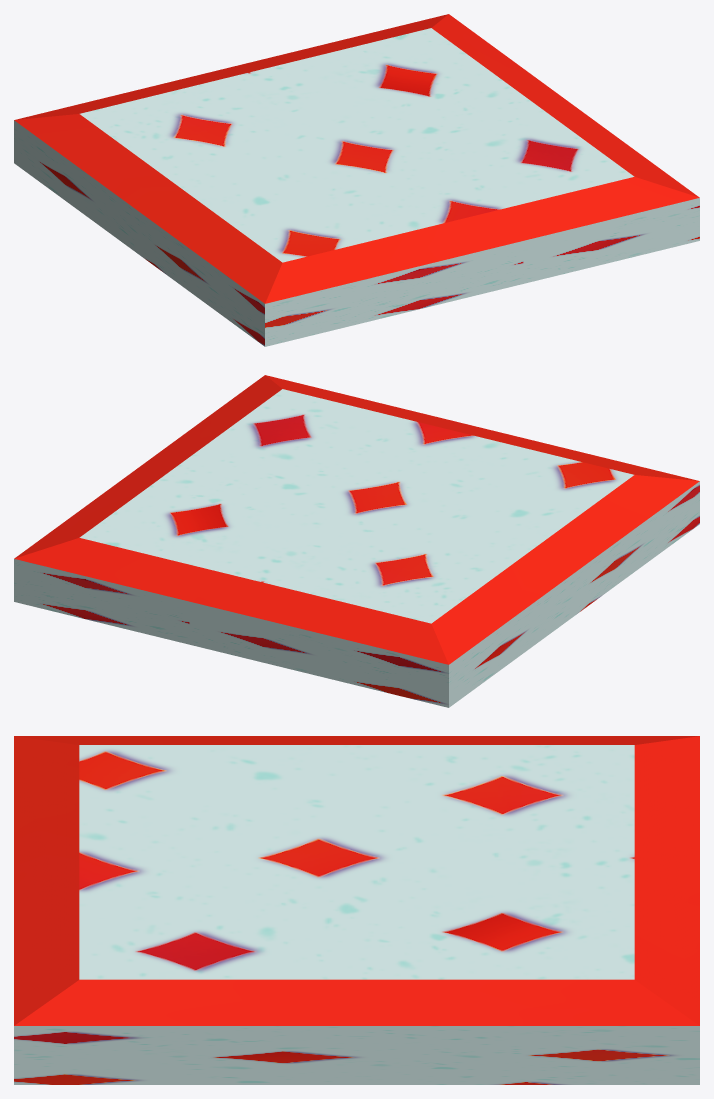
The model's file is буби куб.fbx.
3 views of the same model, one above another, from view 1: azimuth 30°, elevation 25°; view 2: azimuth 150°, elevation 25°; view 3: azimuth 270°, elevation 25° (orthographic). The views are drawn at different scales.
Parts seen in each view (by area): view 1: Cube; view 2: Cube; view 3: Cube.
Part boxes in pixels (left/top/right/bottom): Cube: left=14, top=14, right=699, bottom=346; Cube: left=14, top=375, right=699, bottom=707; Cube: left=14, top=736, right=699, bottom=1084.
Bounding box in the file's own units: 529 × 65.88 × 529.
